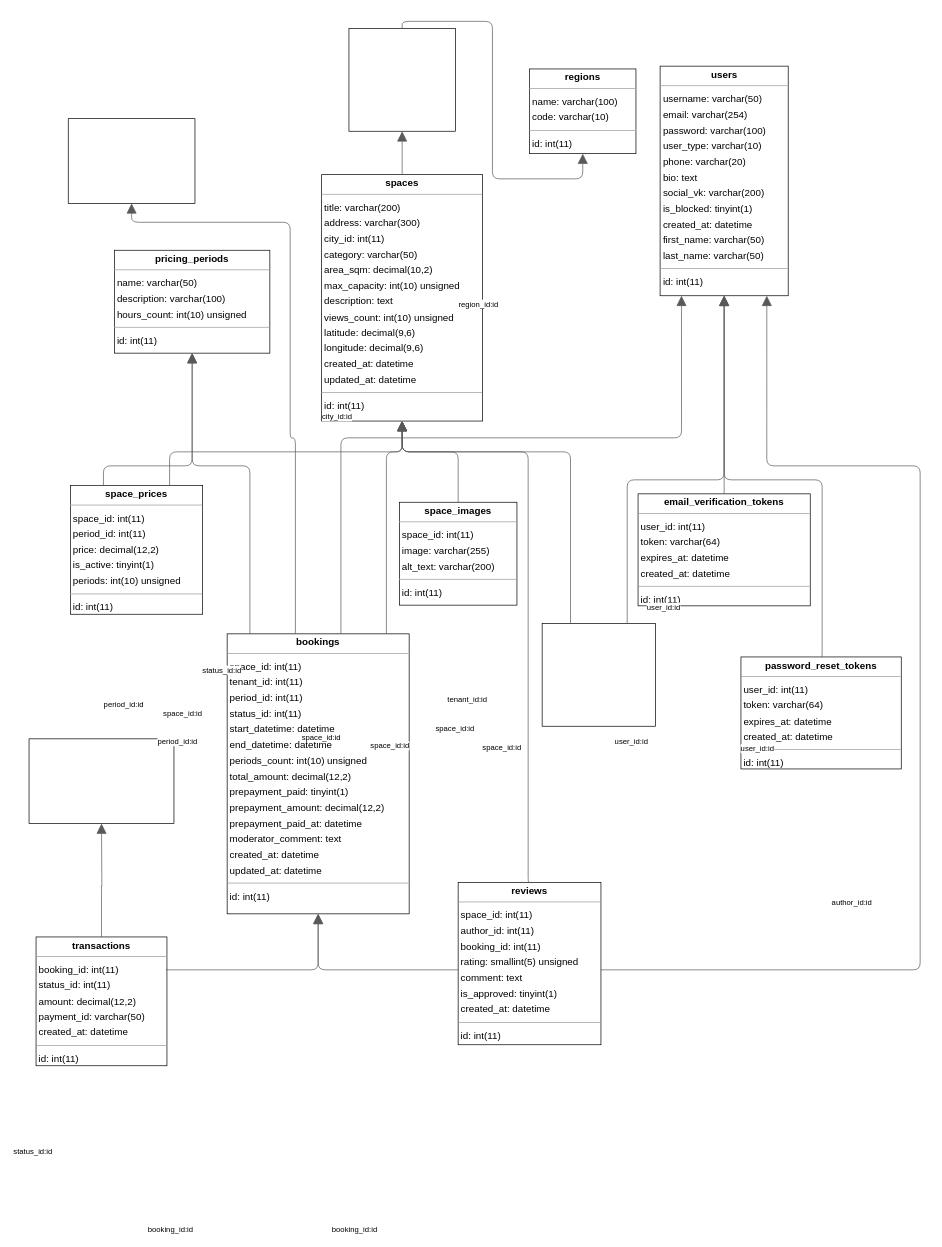
The diagram is 942 pixels wide and 1247 high, and some of its shapes have lost their labels. Each missing label, with the centre of its shape:
booking_statuses code: varchar(20) name: varchar(50) id: int(11): the point at 131,160
cities name: varchar(100) region_id: int(11) is_active: tinyint(1) id: int(11): the point at 401,79
favorites user_id: int(11) space_id: int(11) created_at: datetime id: int(11): the point at 598,674
transaction_statuses code: varchar(20) name: varchar(50) id: int(11): the point at 101,781
